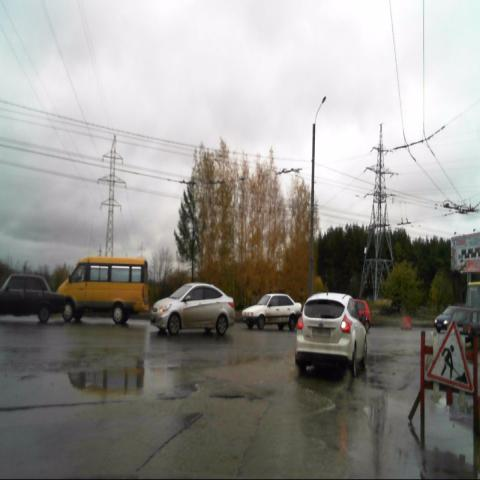1_25: (427, 317, 474, 396)
